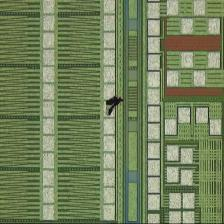PARTICLE: (104, 95, 125, 117)
